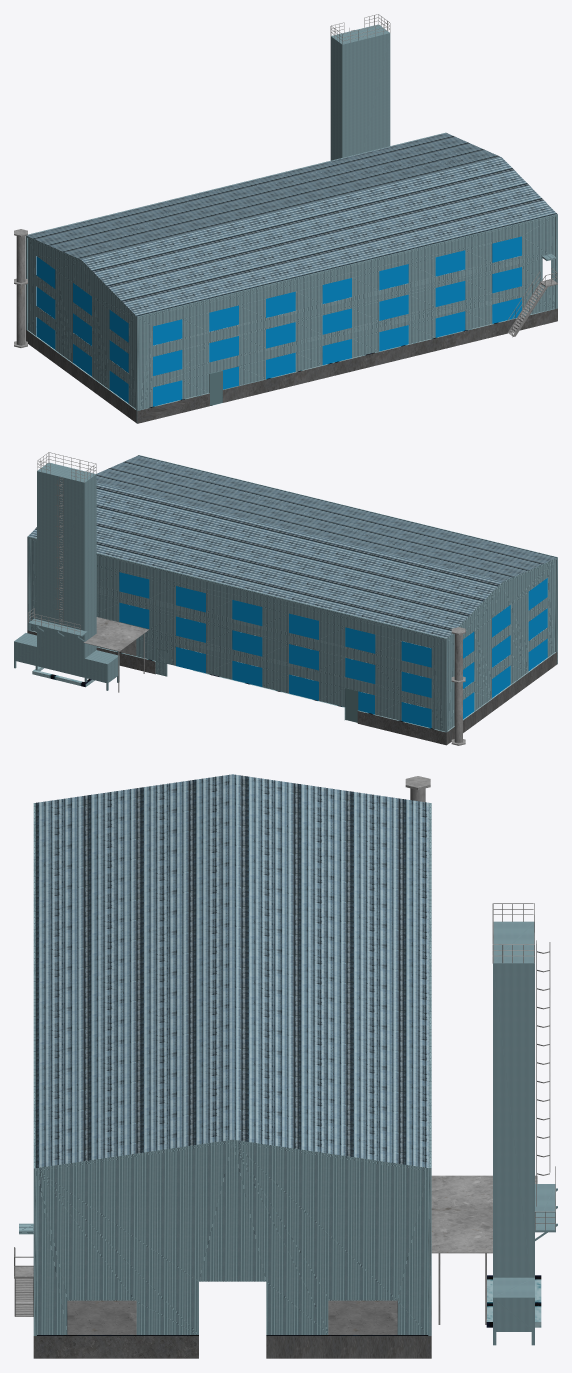
The model's file is changfang06.gltf.
3 views of the same model, one above another, from view 1: azimuth 30°, elevation 25°; view 2: azimuth 150°, elevation 25°; view 3: azimuth 270°, elevation 25° (orthographic). The views are drawn at different scales.
Parts seen in each view (by area): view 1: changfang06_44, changfang06_31, changfang06_38, changfang06_227, changfang06_142, changfang06_80, changfang06_79, changfang06_191, changfang06_186, changfang06_190, changfang06_185, changfang06_184 (+12 smaller); view 2: changfang06_44, changfang06_28, changfang06_38, changfang06_90, changfang06_99, changfang06_227, changfang06_89, changfang06_40, changfang06_205, changfang06_234, changfang06_233, changfang06_229 (+19 smaller); view 3: changfang06_44, changfang06_38, changfang06_90, changfang06_27, changfang06_15, changfang06_89, changfang06_17.
Boxes of the visible parts, box(x1,y1,x2,y2) form: changfang06_44: box(25, 132, 557, 423); changfang06_31: box(138, 216, 554, 409); changfang06_38: box(330, 24, 390, 160); changfang06_227: box(16, 236, 25, 345); changfang06_142: box(435, 311, 465, 337); changfang06_80: box(435, 281, 465, 306); changfang06_79: box(435, 250, 465, 276); changfang06_191: box(379, 325, 408, 351); changfang06_186: box(209, 336, 238, 362); changfang06_190: box(379, 294, 408, 320); changfang06_185: box(209, 305, 238, 331); changfang06_184: box(379, 264, 408, 290); changfang06_44: box(27, 455, 557, 745); changfang06_28: box(30, 539, 445, 731); changfang06_38: box(37, 462, 96, 677); changfang06_90: box(83, 617, 148, 651); changfang06_99: box(84, 650, 119, 683); changfang06_227: box(454, 634, 462, 743); changfang06_89: box(14, 633, 36, 665); changfang06_40: box(401, 641, 431, 667); changfang06_205: box(345, 627, 375, 653); changfang06_234: box(119, 572, 149, 598); changfang06_233: box(119, 602, 149, 628); changfang06_229: box(232, 630, 262, 656); changfang06_44: box(33, 774, 431, 1358); changfang06_38: box(493, 921, 534, 1277); changfang06_90: box(431, 1175, 537, 1253); changfang06_27: box(328, 1300, 397, 1334); changfang06_15: box(67, 1300, 136, 1334); changfang06_89: box(493, 1277, 534, 1331); changfang06_17: box(535, 1184, 555, 1232).
Size of the model in its own units: 426 by 200 by 259.
6 materials, 4 textured.
